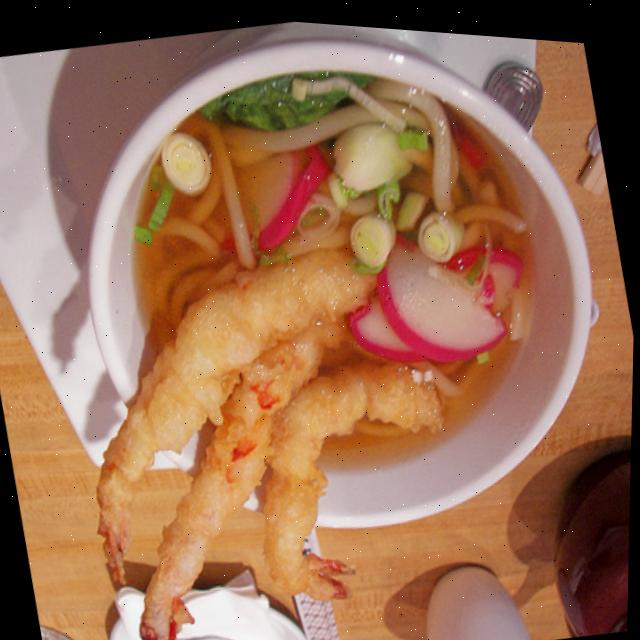面条主食: (28, 23, 595, 640)
